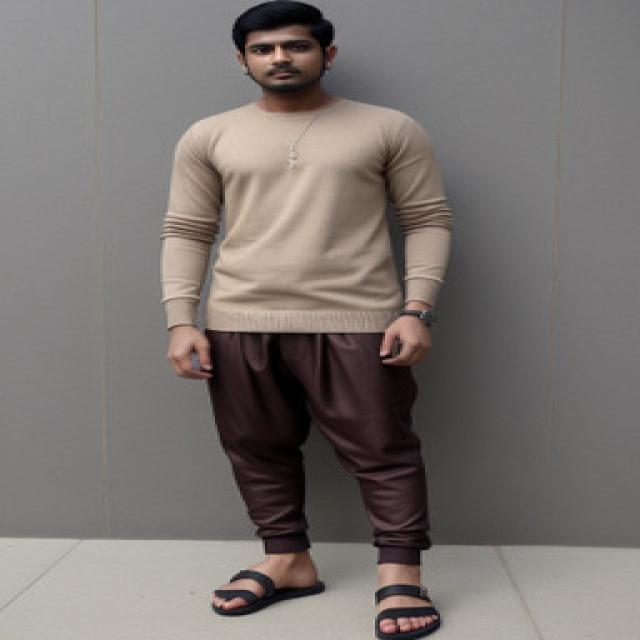Ai human 2: (130, 0, 494, 640)
